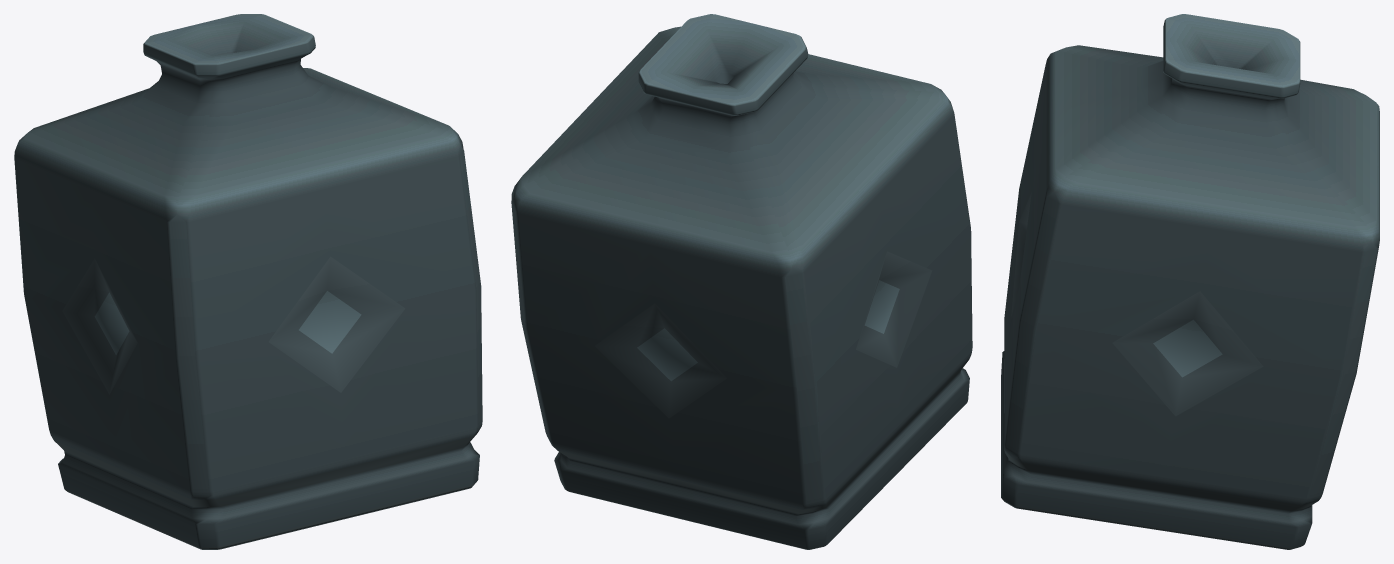
The model's file is CharSkyNPC_Prop_Jar.glb.
3 views of the same model, side by side, from view 1: azimuth 30°, elevation 25°; view 2: azimuth 150°, elevation 25°; view 3: azimuth 270°, elevation 25° (orthographic).
Parts seen in each view (by area): view 1: CharSkyNPC_Prop_Jar; view 2: CharSkyNPC_Prop_Jar; view 3: CharSkyNPC_Prop_Jar.
Boxes of the visible parts, <box> form: CharSkyNPC_Prop_Jar: <box>14,14,482,549</box>; CharSkyNPC_Prop_Jar: <box>511,14,972,549</box>; CharSkyNPC_Prop_Jar: <box>1001,14,1379,549</box>.
Bounding box in the file's own units: 4.54 × 6.46 × 4.94.
1 material, 1 textured.
